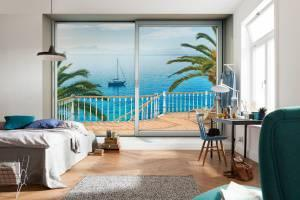window: (42, 13, 232, 139)
